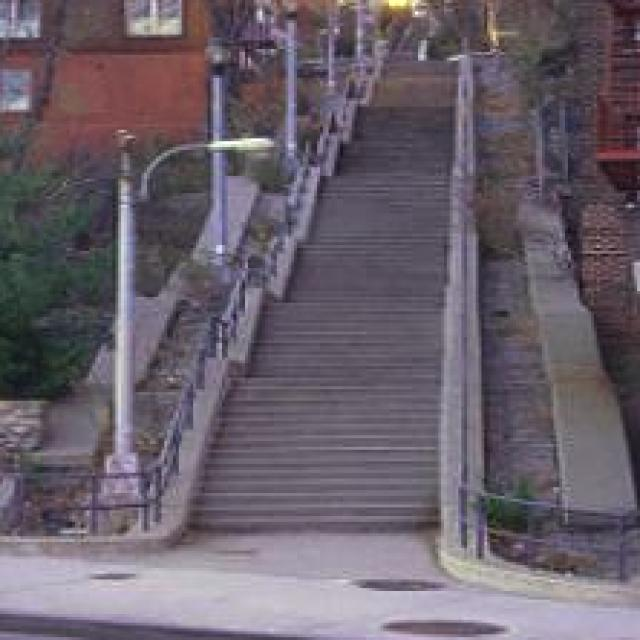upstair: (168, 269, 471, 534)
